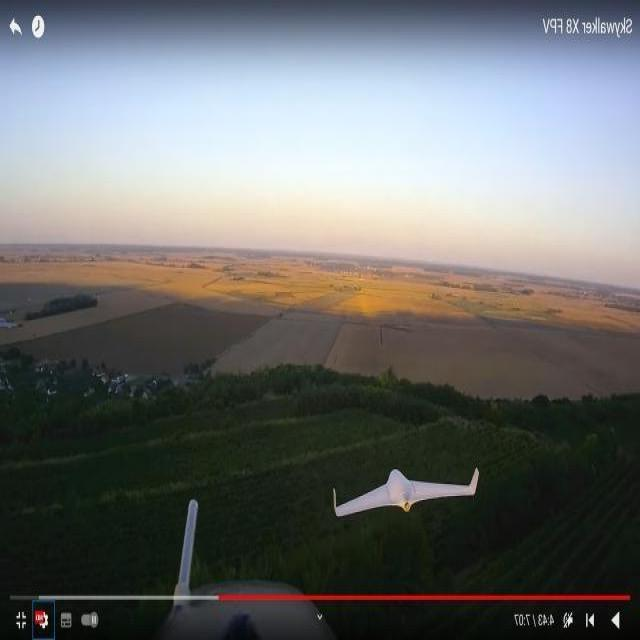Airplane: (329, 460, 488, 526)
